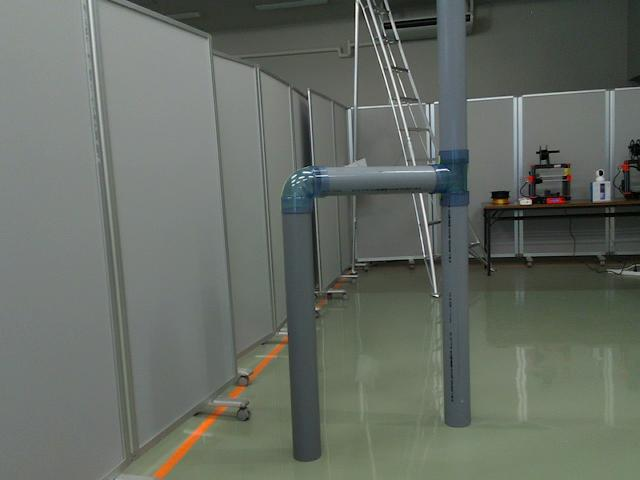bent: (278, 165, 333, 218)
junction: (428, 150, 471, 210)
